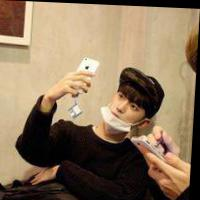WRONG: (106, 88, 145, 130)
